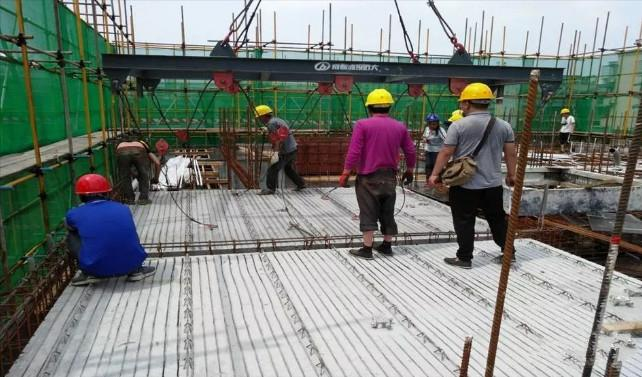garbagetruck: (50, 153, 578, 300)
